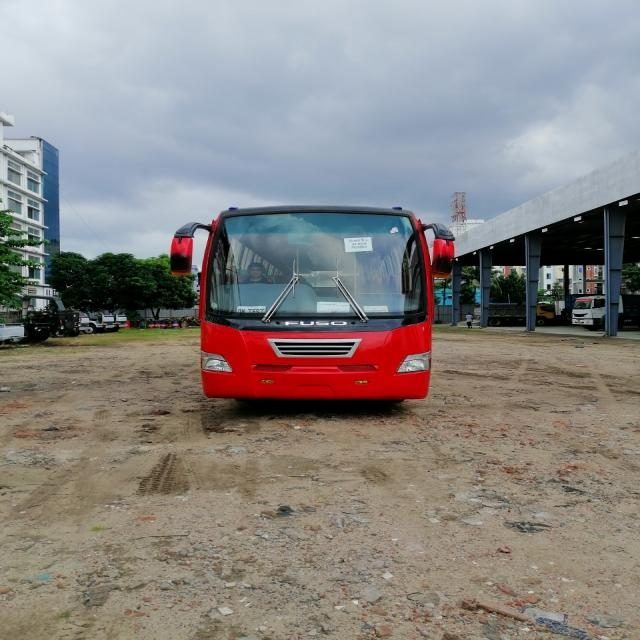bus: (146, 183, 499, 428)
